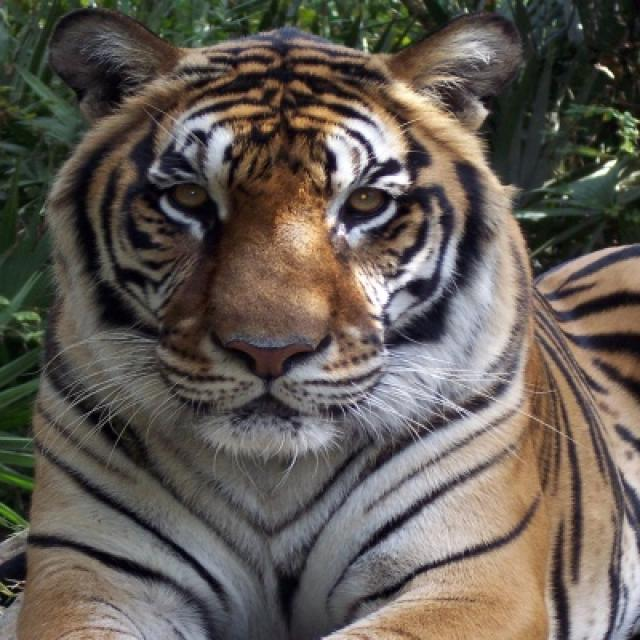Tiger: (0, 10, 638, 638)
